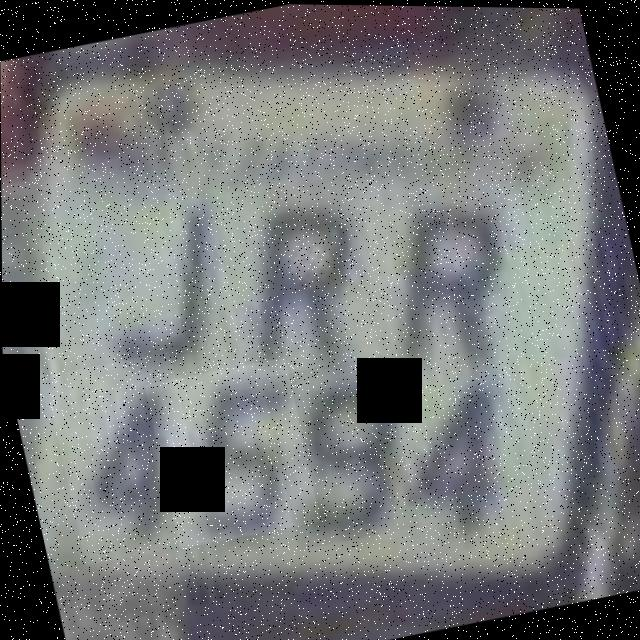4: (369, 344, 540, 562), (44, 349, 210, 566)
5: (143, 355, 320, 550)
9: (260, 351, 419, 550)
J: (64, 175, 241, 390)
R: (209, 168, 395, 393), (347, 178, 531, 394)
